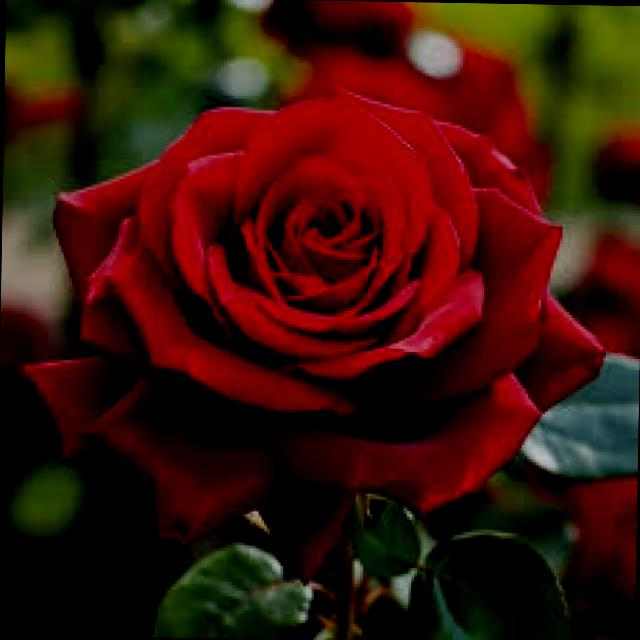rose: (19, 48, 598, 603)
